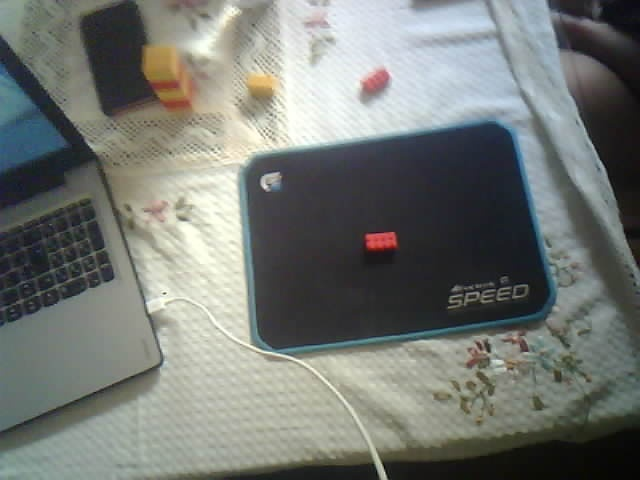lego: (139, 43, 195, 111), (362, 230, 398, 253), (245, 73, 276, 98), (360, 68, 391, 92)
